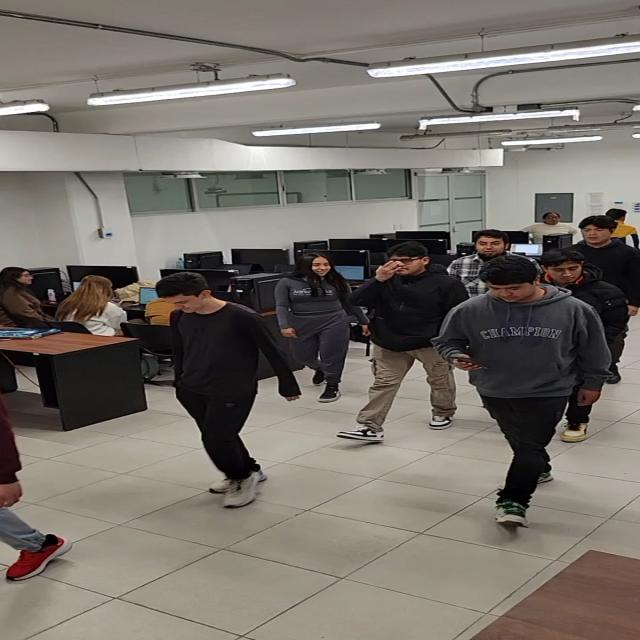Persona: (429, 253, 613, 529), (154, 272, 305, 509), (336, 241, 470, 447), (538, 248, 630, 444), (543, 216, 640, 384), (276, 254, 374, 403), (444, 230, 545, 298), (603, 206, 640, 250)
